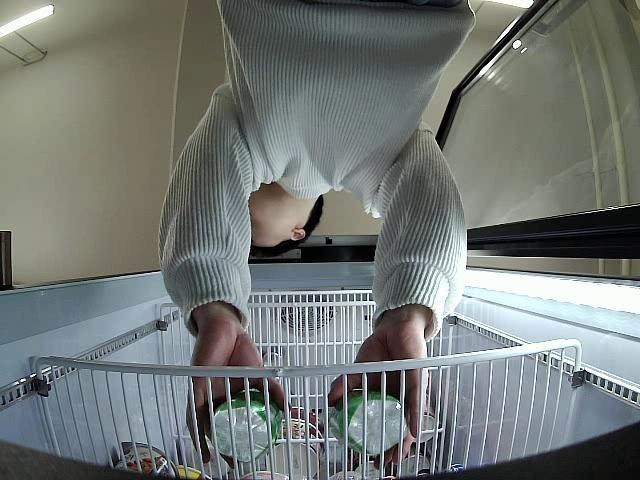18_trevi: (211, 388, 280, 465), (329, 391, 407, 458)
